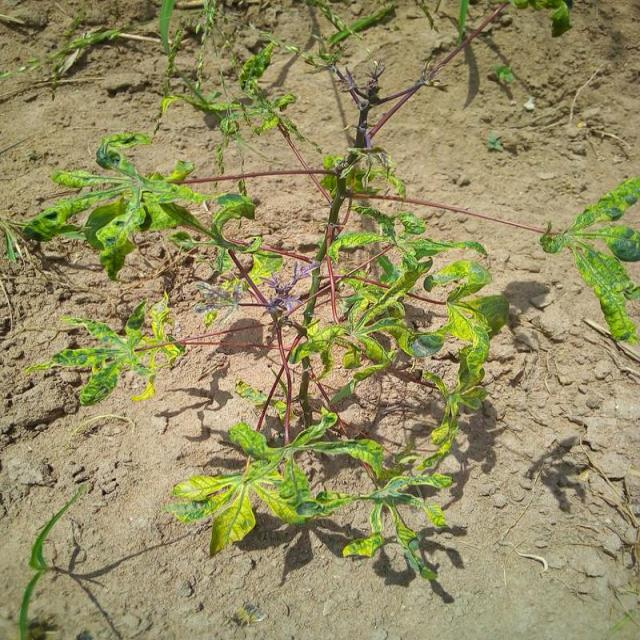cassava leaf: (541, 175, 640, 343)
